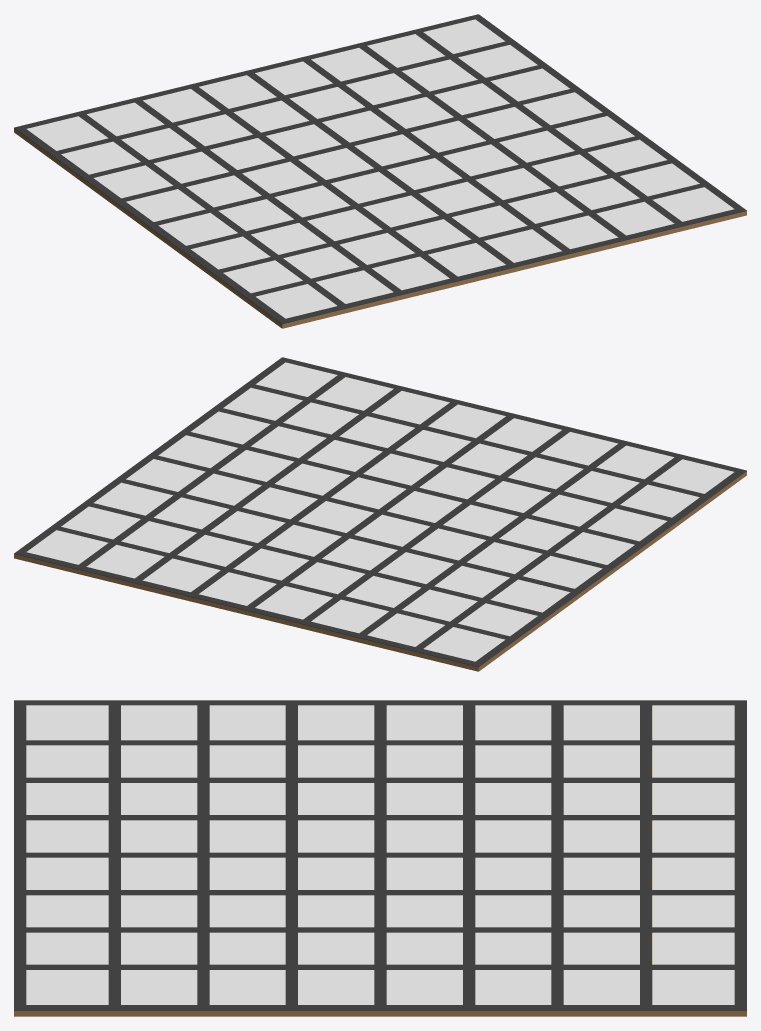
File: Laberinto8x8.glb
3 renders of one model, top to bottom at view 1: azimuth 30°, elevation 25°; view 2: azimuth 150°, elevation 25°; view 3: azimuth 270°, elevation 25°, orthographic. The views are drawn at different scales.
Parts seen in each view (by area): view 1: Madera, Sólido1; view 2: Madera, Sólido1; view 3: Madera, Sólido1.
Boxes of the visible parts, x1,y1,x2,y2 form: Madera: (14, 19, 746, 328); Sólido1: (14, 14, 746, 324); Madera: (14, 362, 746, 671); Sólido1: (14, 357, 746, 667); Madera: (14, 705, 746, 1016); Sólido1: (14, 700, 746, 1010).
Bounding box in the file's own units: 1.49 × 0.015 × 1.49.
